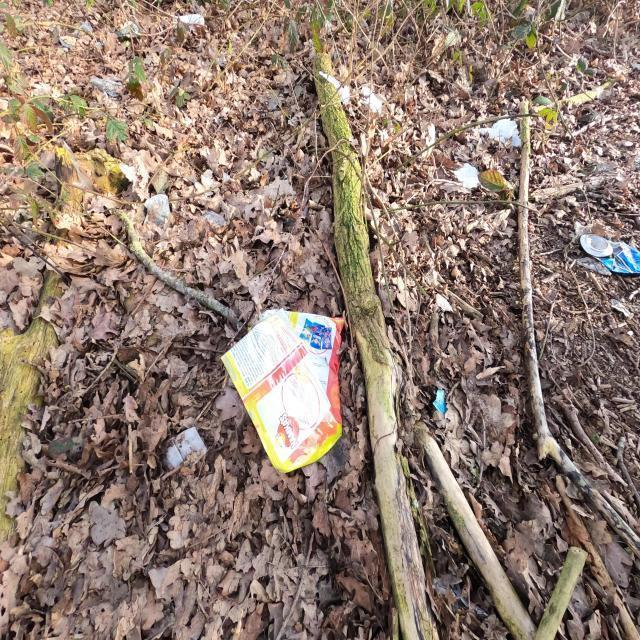Can-Metal: (578, 232, 640, 276)
Paper: (164, 425, 209, 473), (478, 113, 522, 149), (449, 162, 481, 190), (360, 86, 382, 118), (172, 14, 205, 34)
Plastic: (225, 304, 347, 476), (432, 386, 446, 416)
